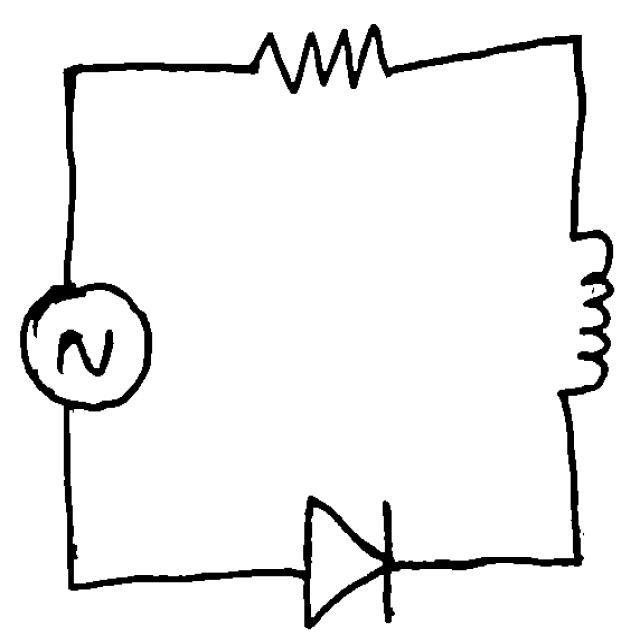ac: (13, 272, 160, 414)
diode: (293, 481, 405, 635)
inductor: (545, 219, 620, 416)
resistor: (242, 12, 409, 106)
